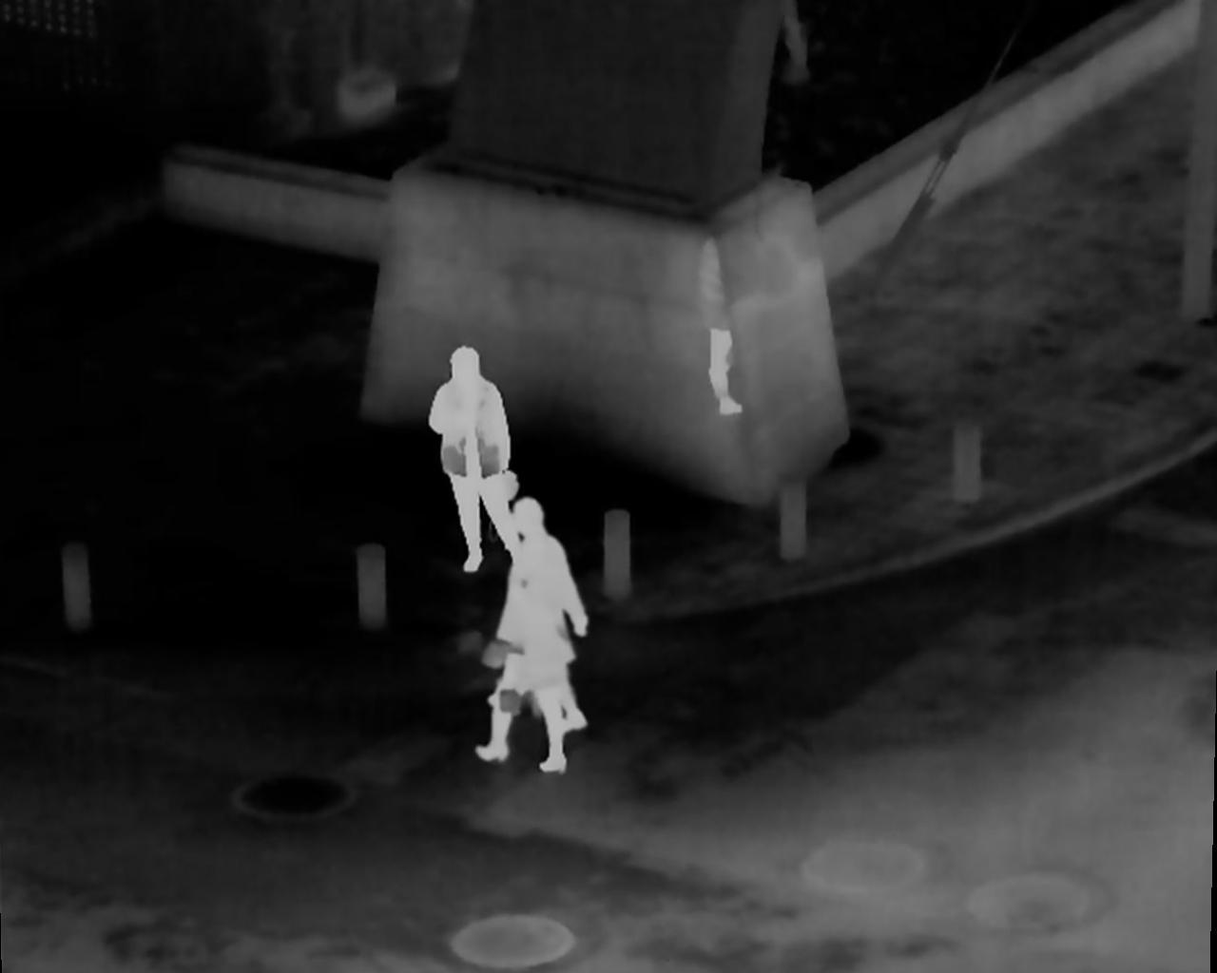person: (472, 498, 592, 777), (430, 346, 521, 578)
